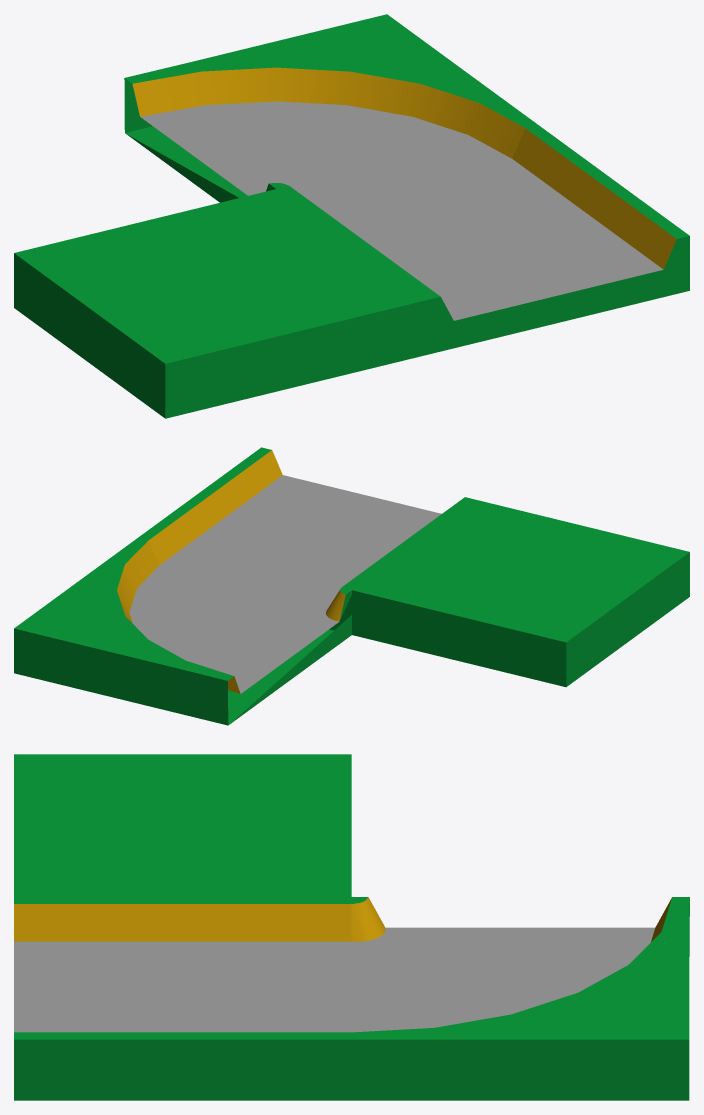
The model's file is track2.FBX.
3 views of the same model, one above another, from view 1: azimuth 30°, elevation 25°; view 2: azimuth 150°, elevation 25°; view 3: azimuth 270°, elevation 25° (orthographic). The views are drawn at different scales.
Parts seen in each view (by area): view 1: Grass, Road-Curve, Road-Str; view 2: Grass, Road-Curve, Road-Str; view 3: Road-Str, Road-Curve, Grass.
Boxes of the visible parts, box(x1,y1,x2,y2) form: Grass: box(14, 189, 427, 418); Road-Curve: box(124, 14, 537, 206); Road-Str: box(276, 125, 689, 354); Grass: box(352, 499, 689, 687); Road-Curve: box(14, 538, 351, 725); Road-Str: box(138, 447, 474, 630); Road-Str: box(14, 897, 351, 1100); Road-Curve: box(351, 897, 689, 1100); Grass: box(14, 754, 351, 896).
Size of the model in its own units: 50.8 by 5.08 by 50.86.
Materials: 3 (3 with a texture image).
